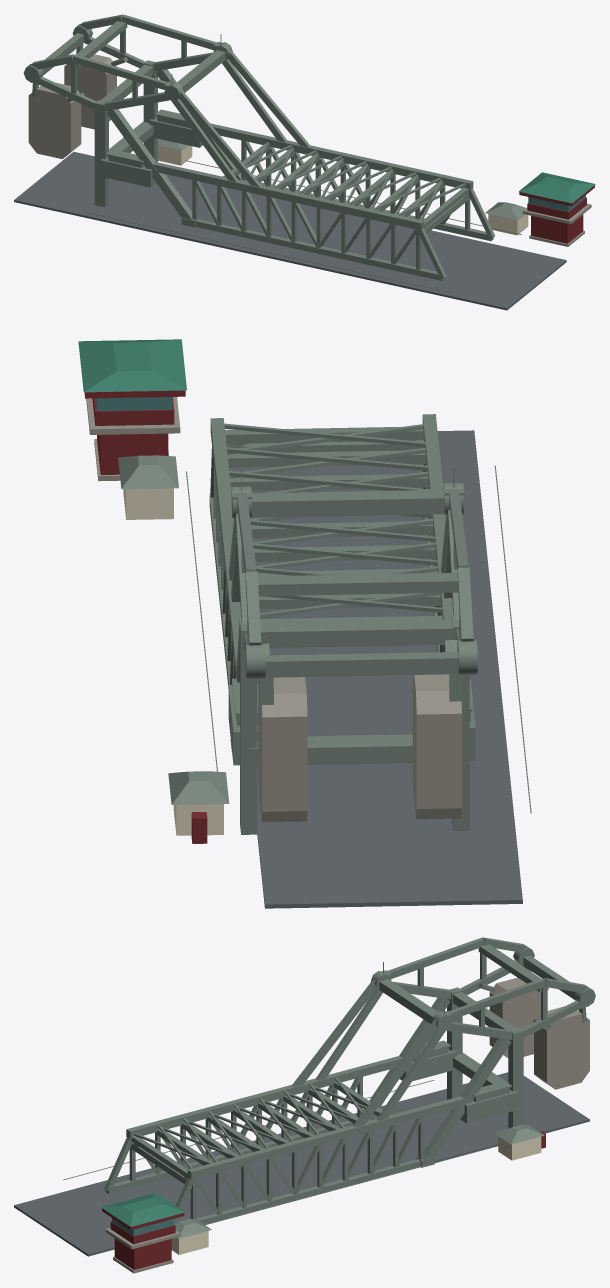
File: lefty-odoul-bridge-far.glb
3 renders of one model, top to bottom at view 1: azimuth 30°, elevation 25°; view 2: azimuth 150°, elevation 25°; view 3: azimuth 270°, elevation 25°, orthographic. The views are drawn at different scales.
Parts seen in each view (by area): view 1: lefty-odoul-bridge-0-steel, lefty-odoul-bridge-0-asphalt, lefty-odoul-bridge-0-concrete, lefty-odoul-bridge-0-house, lefty-odoul-bridge-0-trim, lefty-odoul-bridge-0-cream; view 2: lefty-odoul-bridge-0-steel, lefty-odoul-bridge-0-asphalt, lefty-odoul-bridge-0-concrete, lefty-odoul-bridge-0-trim, lefty-odoul-bridge-0-house, lefty-odoul-bridge-0-cream, lefty-odoul-bridge-0-glass; view 3: lefty-odoul-bridge-0-steel, lefty-odoul-bridge-0-asphalt, lefty-odoul-bridge-0-concrete, lefty-odoul-bridge-0-house, lefty-odoul-bridge-0-trim, lefty-odoul-bridge-0-cream.
Part boxes in pixels (box(x1,y1,x2,y2)): lefty-odoul-bridge-0-steel: box(23, 14, 525, 292); lefty-odoul-bridge-0-asphalt: box(14, 151, 566, 310); lefty-odoul-bridge-0-concrete: box(28, 54, 591, 246); lefty-odoul-bridge-0-house: box(519, 185, 594, 243); lefty-odoul-bridge-0-trim: box(519, 172, 595, 203); lefty-odoul-bridge-0-cream: box(158, 145, 528, 235); lefty-odoul-bridge-0-steel: box(118, 414, 531, 834); lefty-odoul-bridge-0-asphalt: box(229, 430, 522, 908); lefty-odoul-bridge-0-concrete: box(86, 397, 461, 822); lefty-odoul-bridge-0-trim: box(78, 339, 186, 392); lefty-odoul-bridge-0-house: box(84, 390, 207, 843); lefty-odoul-bridge-0-cream: box(123, 488, 223, 835); lefty-odoul-bridge-0-glass: box(95, 397, 172, 411); lefty-odoul-bridge-0-steel: box(63, 937, 595, 1238); lefty-odoul-bridge-0-asphalt: box(14, 1072, 589, 1256); lefty-odoul-bridge-0-concrete: box(105, 977, 589, 1273); lefty-odoul-bridge-0-house: box(102, 1131, 545, 1269); lefty-odoul-bridge-0-trim: box(101, 1193, 184, 1226); lefty-odoul-bridge-0-cream: box(171, 1136, 541, 1254).
Size of the model in its own units: 73.92 by 26.35 by 86.59.
